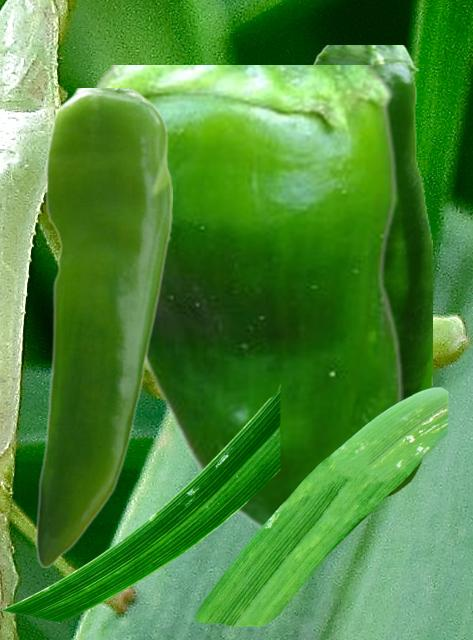green_chili: (89, 65, 402, 531), (35, 88, 171, 566), (310, 45, 431, 503)
